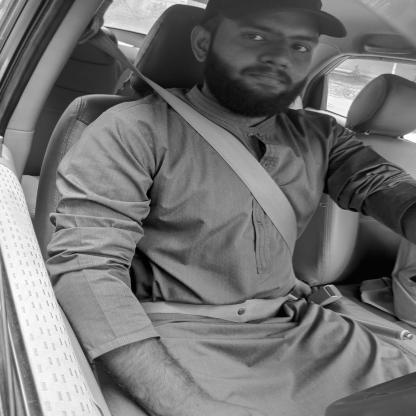seatbelt: (78, 0, 345, 259)
